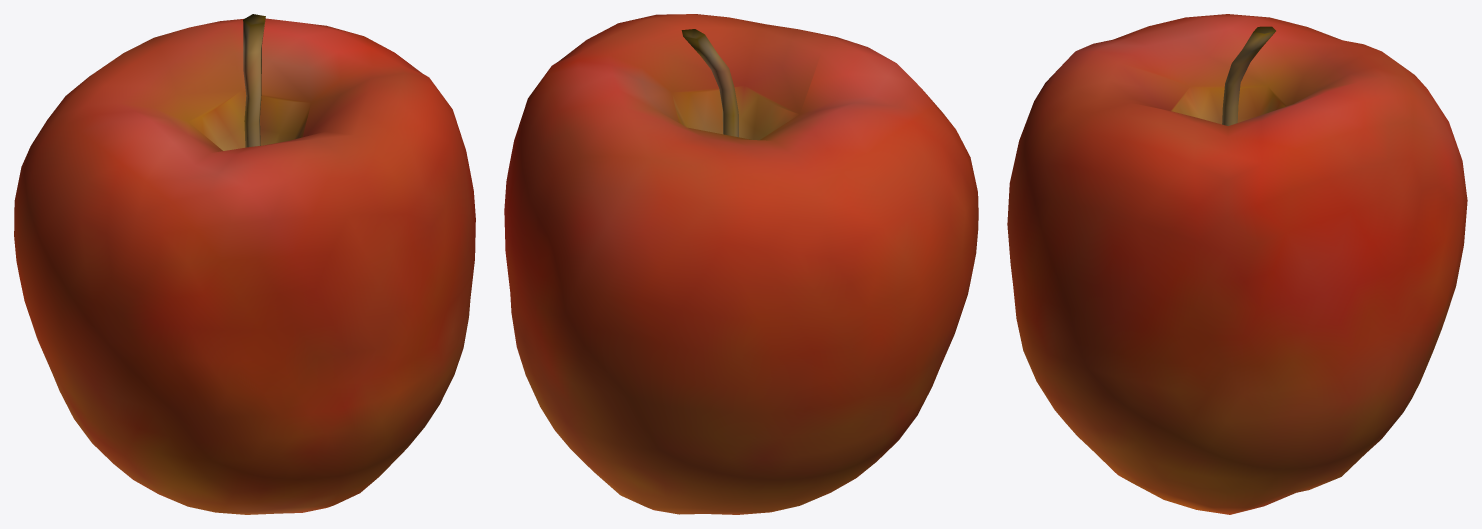
Rendered from RedApple1.fbx.
3 renders of one model, left to right at view 1: azimuth 30°, elevation 25°; view 2: azimuth 150°, elevation 25°; view 3: azimuth 270°, elevation 25°, orthographic. The views are drawn at different scales.
Visible parts, largest first — view 1: Icosphere; view 2: Icosphere; view 3: Icosphere.
Boxes of the visible parts, x1=… form: Icosphere: x1=14, y1=14, x2=475, y2=514; Icosphere: x1=504, y1=14, x2=978, y2=514; Icosphere: x1=1007, y1=14, x2=1467, y2=514.
Bounding box in the file's own units: 179 × 193 × 177.
